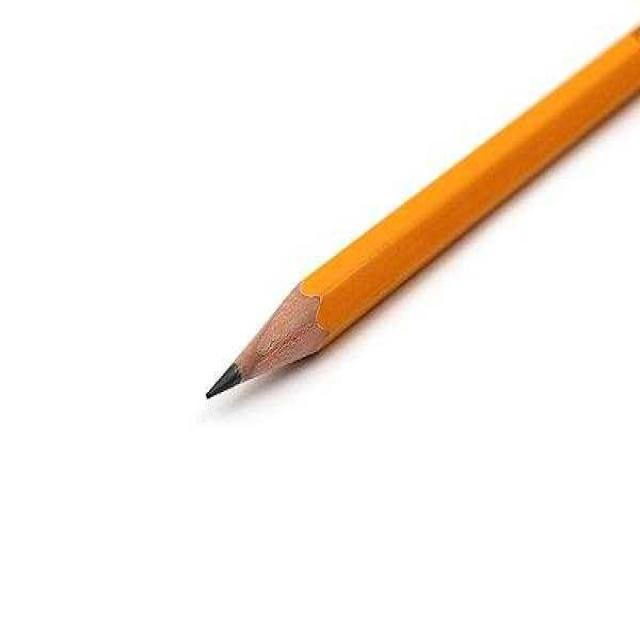pencil: (186, 19, 639, 427)
